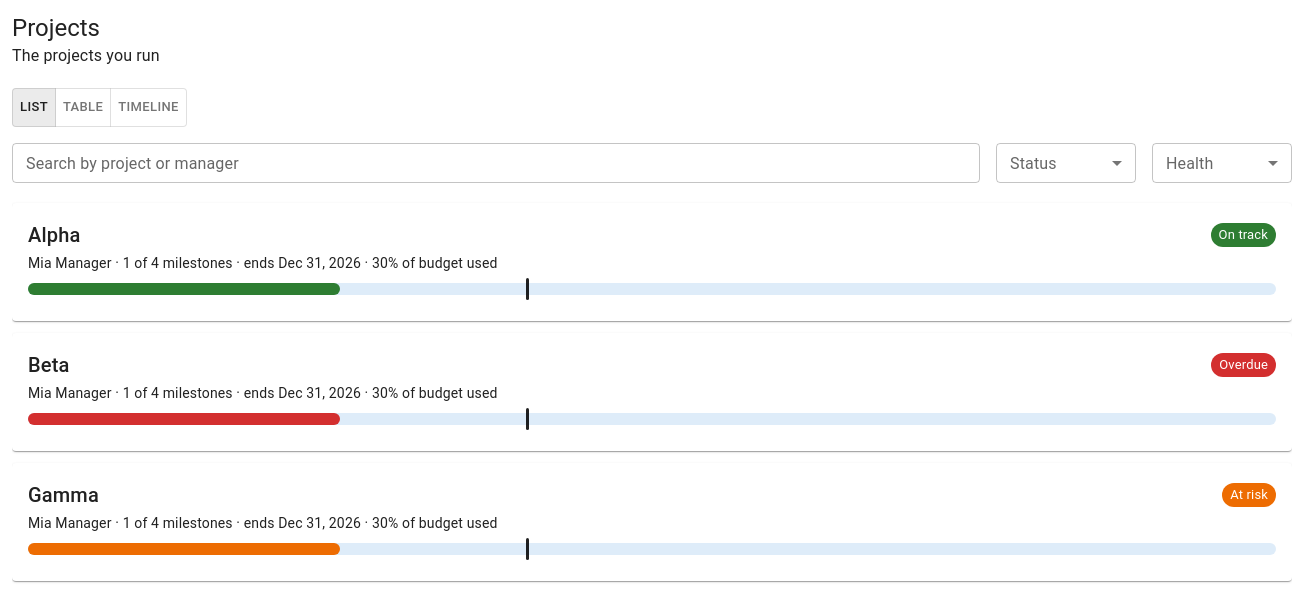
Scenario: Projects list › filters by health on the page, most urgent kinds first in the list of choices
Expected: the link "Alpha" is shown, [28,219,80,251]
Click the dropdown named "Health" next to "Health" at [1222, 163], box [1152,143,1291,183]
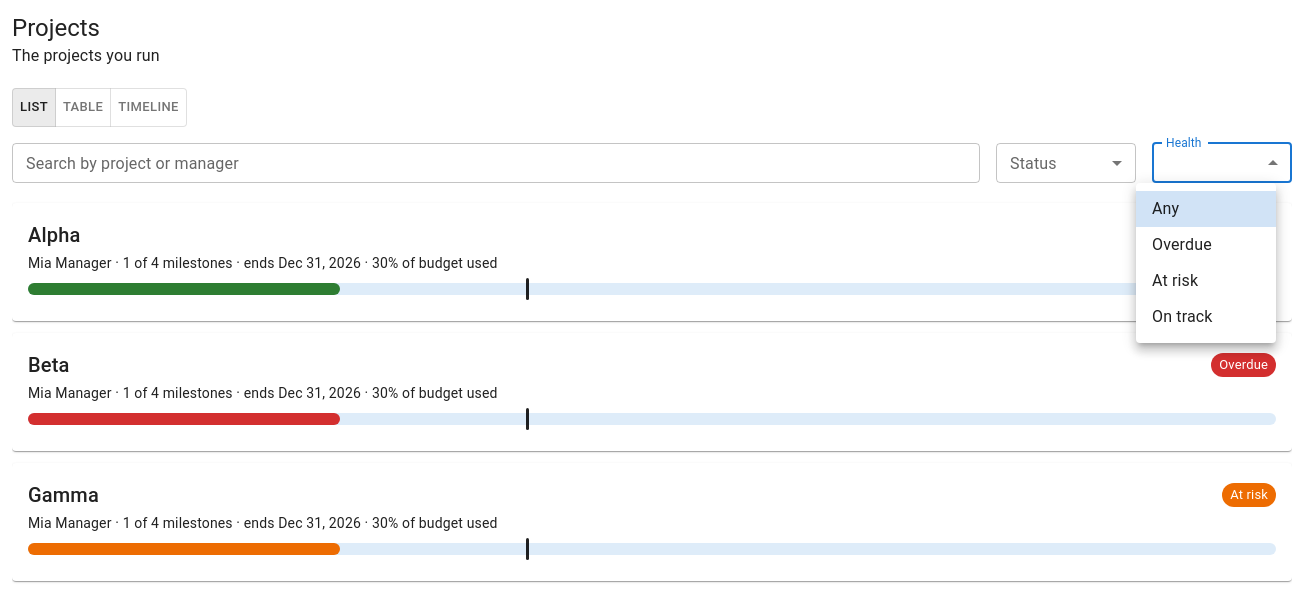
Result: the options read "Any", "Overdue", "At risk", "On track", in this order
Click the option "Overdue" at [1182, 244], box [1152,235,1212,254]
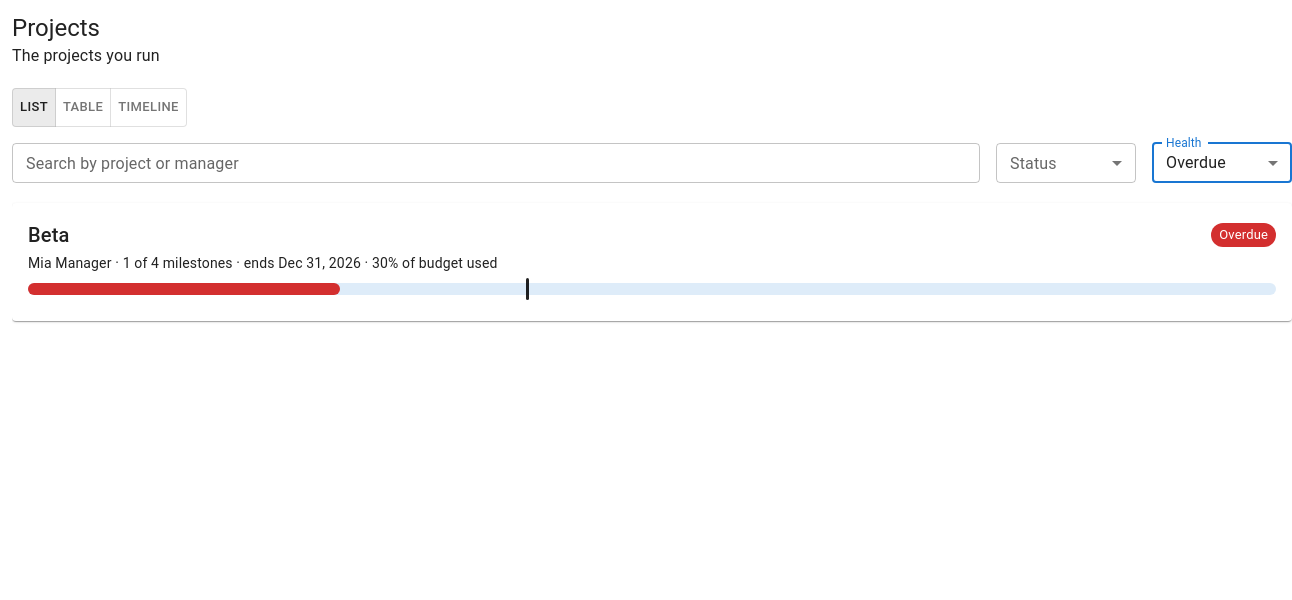
Expected: the link "Beta" is shown, [28,219,70,251]
Result: the link "Alpha" is gone
Result: the link "Gamma" is gone
Click the dropdown named "Health" at [1196, 163], box [1166,153,1226,172]
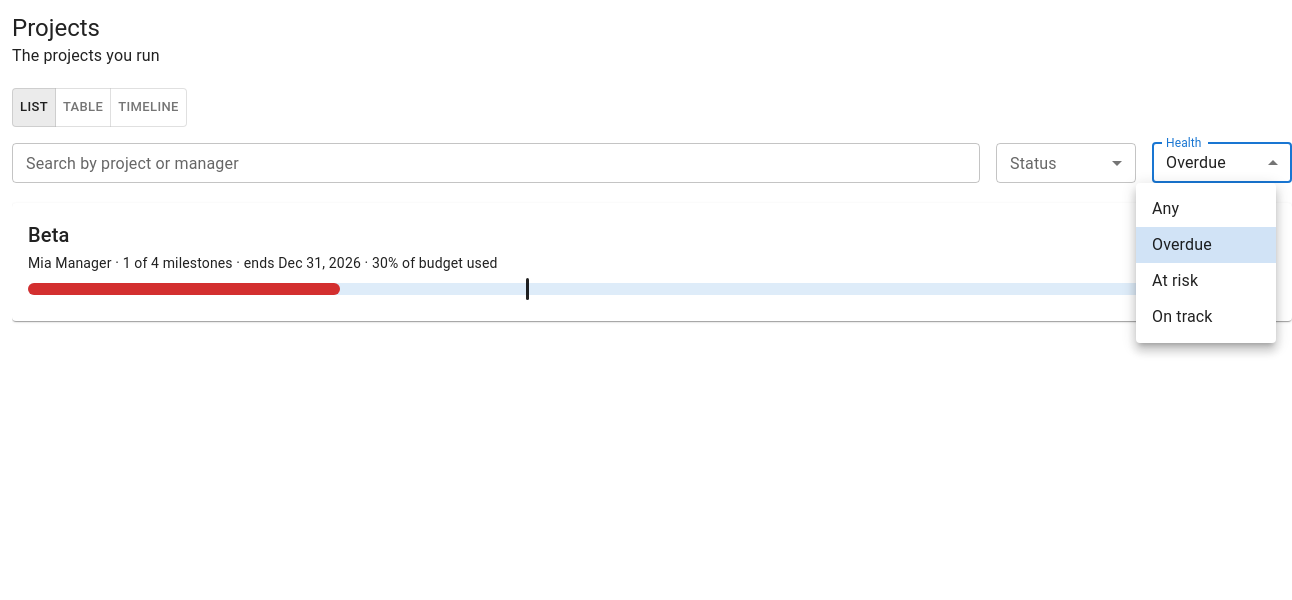
Click the option "Any" at [1166, 208], box [1152,199,1179,218]
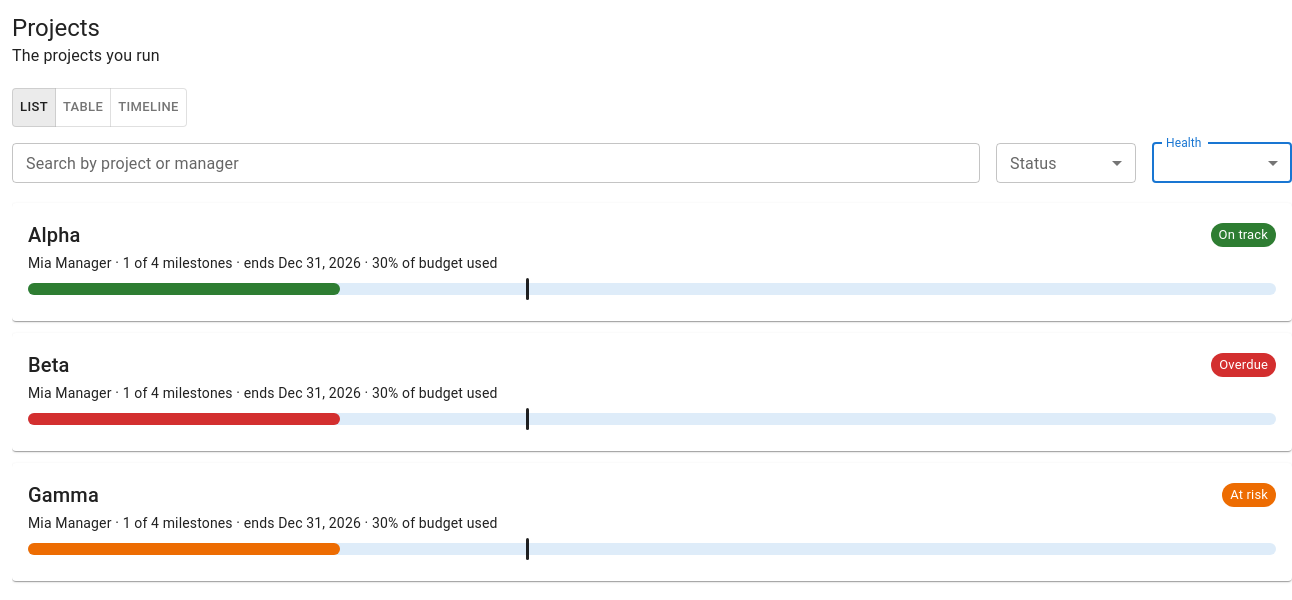
Result: the link "Alpha" is shown at [28,219,80,251]
Result: the link "Gamma" is shown at [28,479,99,511]
